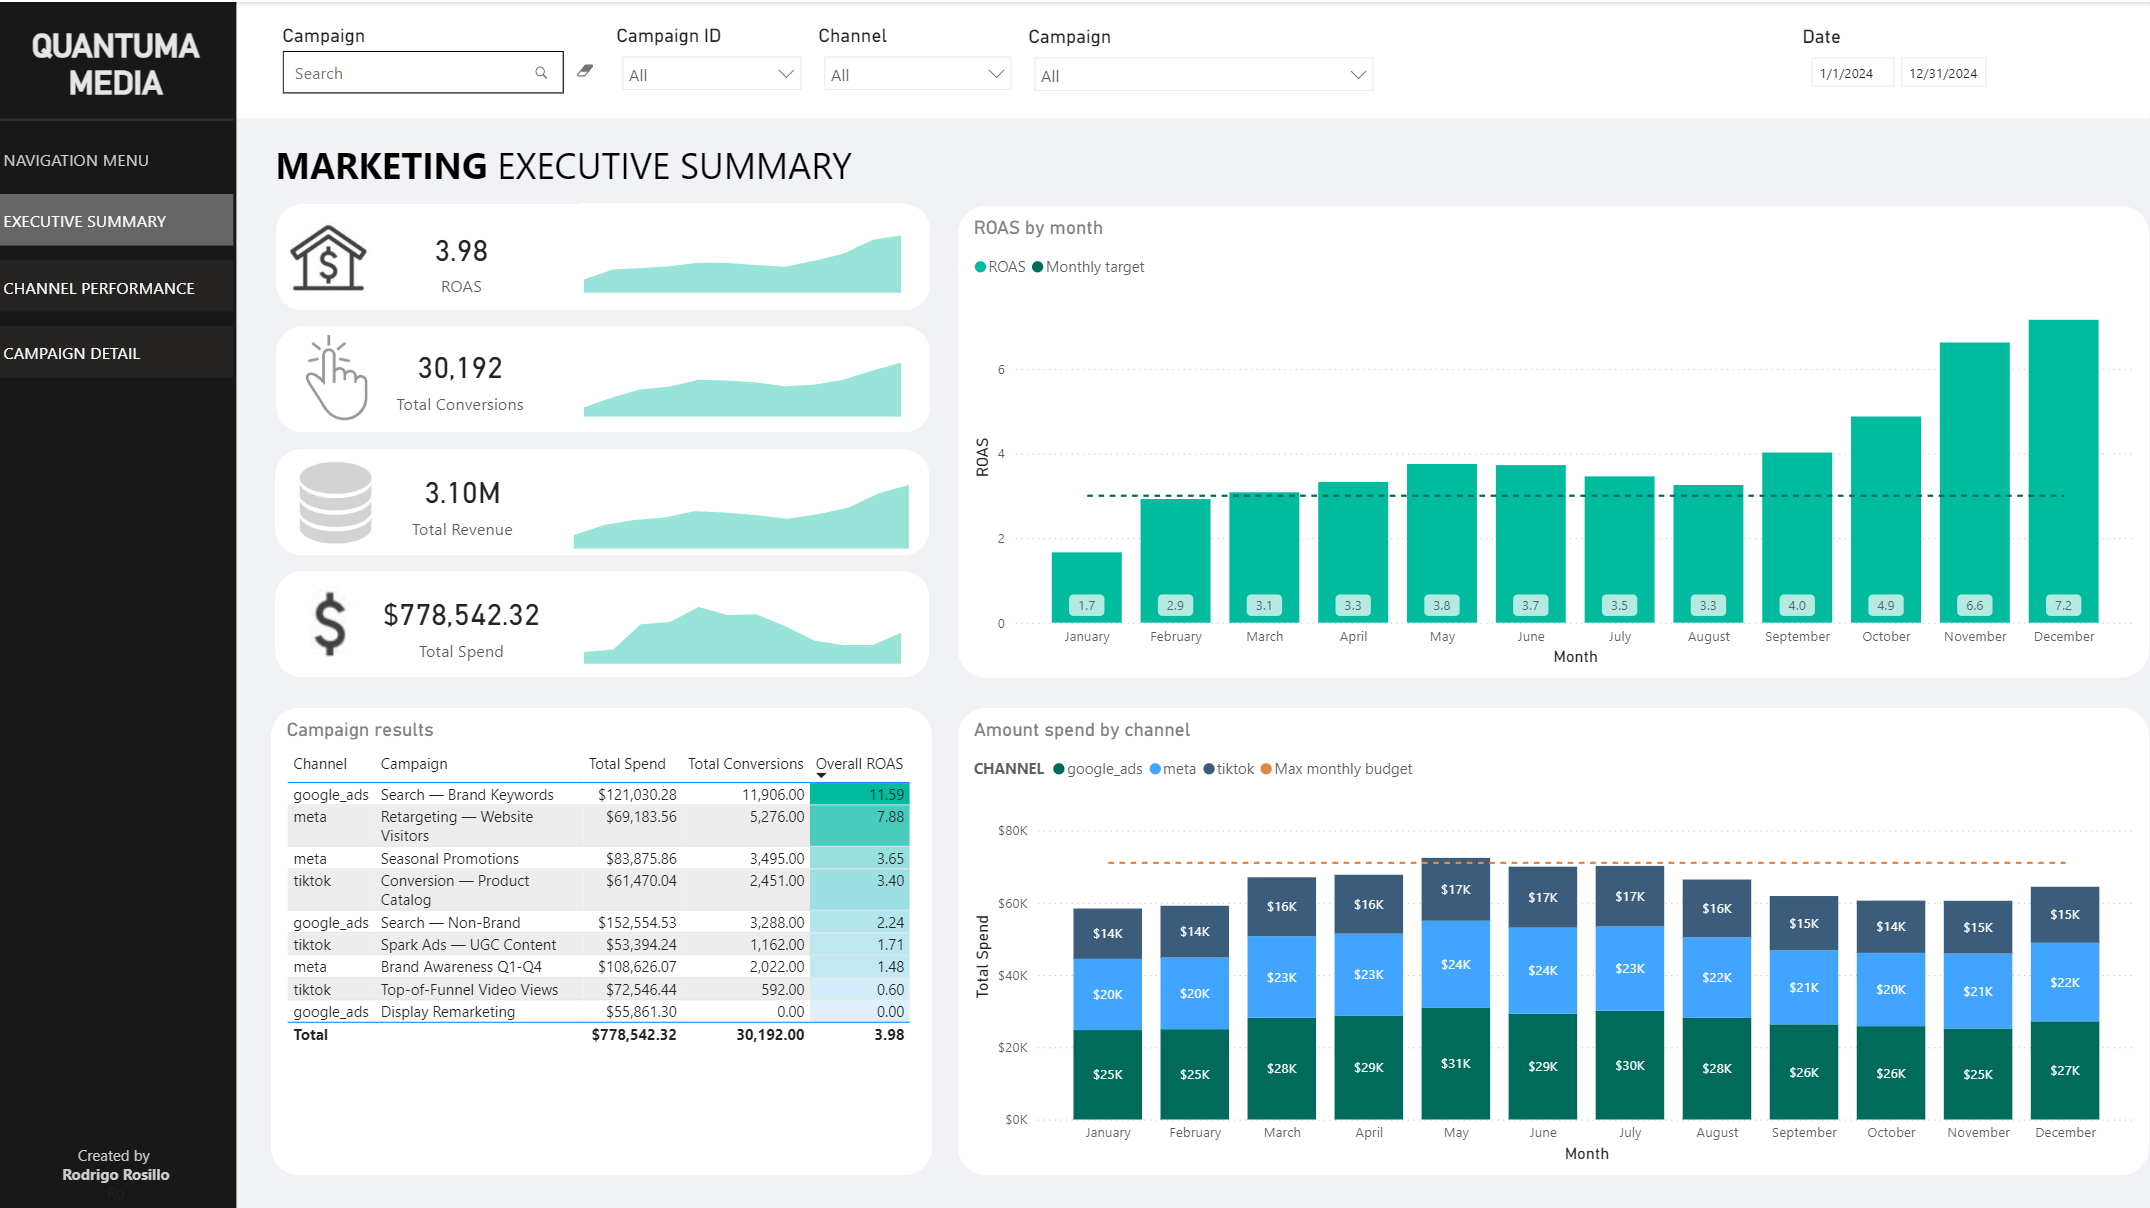

This screenshot's page, from the dashboard's own definition file:
{"tool":"powerbi","page":{"name":"Executive Summary","canvas":[1920,1080],"ordinal":0},"visuals":[{"type":"lineClusteredColumnComboChart","title":"ROAS by month","fields":{"Category":["FCT_AD_SPEND.DATE.Variation.Date Hierarchy.Month"],"Y":["FCT_AD_SPEND.Overall ROAS"],"Y2":["FCT_AD_SPEND.roas target"]},"box":[857.2,182.5,1062.8,421.2],"z":0},{"type":"tableEx","title":"Campaign results","fields":{"Values":["FCT_AD_SPEND.CHANNEL","FCT_AD_SPEND.CAMPAIGN_NAME","FCT_AD_SPEND.Total Spend","FCT_AD_SPEND.Total Conversions","FCT_AD_SPEND.Overall ROAS"]},"box":[243.3,630.5,589.9,416.6],"z":1000},{"type":"shape","box":[0,0,1920.6,103.9],"z":2000},{"type":"shape","box":[1.4,0,210.6,1080],"z":3000},{"type":"shape","box":[0,83.8,210.4,42.3],"z":4000},{"type":"textbox","box":[0,1015.5,210.5,64.5],"z":5000},{"type":"textbox","box":[0,124.6,210.5,34.2],"z":6000},{"type":"shape","box":[0,171.3,210.5,46],"z":7000},{"type":"textbox","title":"(2) Pages 1 - TXT 1","box":[0,179.7,210.6,37.1],"z":8000},{"type":"shape","box":[0,230.4,210.5,46],"z":9000},{"type":"textbox","title":"(2) Pages 1 - TXT 1","box":[0,238.8,210.6,37.1],"z":10000},{"type":"textbox","box":[242.4,118,600.1,64.5],"z":11000},{"type":"slicer","title":"Date","fields":{"Values":["FCT_AD_SPEND.DATE"]},"box":[1605.8,20.7,314.2,150.2],"z":12000},{"type":"textFilter25A4896A83E0487089E2B90C9AE57C8A","title":"Campaign","fields":{"field":["FCT_AD_SPEND.CAMPAIGN_NAME"]},"box":[248.9,19.8,299,85.6],"z":13000},{"type":"slicer","title":"Campaign ID","fields":{"Values":["FCT_AD_SPEND.CAMPAIGN_ID"]},"box":[547.5,19.8,179.9,72.5],"z":14000},{"type":"shape","title":"(2) Pages 2 - Click","box":[0,229.5,211.1,46.1],"z":15000},{"type":"slicer","title":"Channel","fields":{"Values":["FCT_AD_SPEND.CHANNEL"]},"box":[727.3,20,187.3,72.7],"z":16000},{"type":"slicer","title":"Campaign","fields":{"Values":["FCT_AD_SPEND.CAMPAIGN_NAME"]},"box":[915.1,20.7,322.9,72.5],"z":17000},{"type":"shape","box":[248.4,180.6,584.2,95],"z":18000},{"type":"shape","box":[248.3,289.1,584.2,95],"z":19000},{"type":"card","fields":{"Values":["FCT_AD_SPEND.Total Conversions"]},"box":[328,288.4,169.9,93.5],"z":20000},{"type":"card","fields":{"Values":["FCT_AD_SPEND.Overall ROAS"]},"box":[329.3,181.8,168.6,96.1],"z":21000},{"type":"shape","box":[247.4,399.4,584.2,95],"z":22000},{"type":"card","fields":{"Values":["FCT_AD_SPEND.Total Revenue"]},"box":[329.8,399,168.6,95.7],"z":23000},{"type":"shape","box":[247.3,507.9,584.2,95],"z":24000},{"type":"card","fields":{"Values":["FCT_AD_SPEND.Total Spend"]},"box":[329.7,507.5,168.6,95.7],"z":25000},{"type":"areaChart","fields":{"Category":["FCT_AD_SPEND.DATE.Variation.Date Hierarchy.Year","FCT_AD_SPEND.DATE.Variation.Date Hierarchy.Quarter","FCT_AD_SPEND.DATE.Variation.Date Hierarchy.Month","FCT_AD_SPEND.DATE.Variation.Date Hierarchy.Day"],"Y":["FCT_AD_SPEND.Total Revenue"]},"box":[498.7,400,329.1,94],"z":26000},{"type":"areaChart","title":"Tasa de apertura única por día de envío","fields":{"Category":["FCT_AD_SPEND.DATE.Variation.Date Hierarchy.Year","FCT_AD_SPEND.DATE.Variation.Date Hierarchy.Quarter","FCT_AD_SPEND.DATE.Variation.Date Hierarchy.Month","FCT_AD_SPEND.DATE.Variation.Date Hierarchy.Day"],"Y":["FCT_AD_SPEND.Total Conversions"]},"box":[498.7,290.4,329.1,92.2],"z":27000},{"type":"areaChart","title":"Tasa de apertura única por día de envío","fields":{"Category":["FCT_AD_SPEND.DATE.Variation.Date Hierarchy.Year","FCT_AD_SPEND.DATE.Variation.Date Hierarchy.Quarter","FCT_AD_SPEND.DATE.Variation.Date Hierarchy.Month","FCT_AD_SPEND.DATE.Variation.Date Hierarchy.Day"],"Y":["FCT_AD_SPEND.Total Spend"]},"box":[498.7,509.7,329.1,93.1],"z":28000},{"type":"areaChart","title":"Tasa de apertura única por día de envío","fields":{"Category":["FCT_AD_SPEND.DATE.Variation.Date Hierarchy.Year","FCT_AD_SPEND.DATE.Variation.Date Hierarchy.Quarter","FCT_AD_SPEND.DATE.Variation.Date Hierarchy.Month","FCT_AD_SPEND.DATE.Variation.Date Hierarchy.Day"],"Y":["FCT_AD_SPEND.Overall ROAS"]},"box":[498.7,179.7,329.1,93.1],"z":29000},{"type":"image","box":[259.9,403.7,83,86.6],"z":30000},{"type":"image","box":[258.1,288.5,85.7,94],"z":31000},{"type":"shape","box":[0,289.1,210.5,46],"z":32000},{"type":"textbox","title":"(2) Pages 1 - TXT 1","box":[0,297.5,210.6,37.1],"z":33000},{"type":"shape","title":"(2) Pages 2 - Click","box":[0,290.4,211.1,47],"z":34000},{"type":"lineStackedColumnComboChart","title":"Amount spend by channel","fields":{"Category":["FCT_AD_SPEND.DATE.Variation.Date Hierarchy.Month","FCT_AD_SPEND.DATE.Variation.Date Hierarchy.Day"],"Y":["FCT_AD_SPEND.Total Spend"],"Series":["FCT_AD_SPEND.CHANNEL"],"Y2":["FCT_AD_SPEND.MAX Budget"]},"box":[857.2,630.5,1062.8,416.6],"z":35000},{"type":"textbox","box":[0,0,210.2,105.1],"z":36000},{"type":"image","box":[248.9,179.7,94.9,97.7],"z":37000},{"type":"image","box":[248.9,507.9,94,94.9],"z":38000},{"type":"shape","box":[0,345.4,210.6,46.4],"z":38001},{"type":"textbox","title":"(2) Pages 1 - TXT 1","box":[0,349.9,210.6,37.5],"z":38002},{"type":"shape","title":"(2) Pages 2 - Click","box":[0,344.5,209.8,47.3],"z":38003}]}

Visuals, with their boxes on the page's 1920x1080 design canvas (x1, y1, x2, y2). These are canvas units, not pixel positions in the 2150x1208 screenshot, which may show the page scaled, cropped or inside an application window:
"ROAS by month" lineClusteredColumnComboChart: bbox(857, 182, 1920, 604)
"Campaign results" tableEx: bbox(243, 630, 833, 1047)
shape: bbox(0, 0, 1921, 104)
shape: bbox(1, 0, 212, 1080)
shape: bbox(0, 84, 210, 126)
textbox: bbox(0, 1016, 210, 1080)
textbox: bbox(0, 125, 210, 159)
shape: bbox(0, 171, 210, 217)
"(2) Pages 1 - TXT 1" textbox: bbox(0, 180, 211, 217)
shape: bbox(0, 230, 210, 276)
"(2) Pages 1 - TXT 1" textbox: bbox(0, 239, 211, 276)
textbox: bbox(242, 118, 842, 182)
"Date" slicer: bbox(1606, 21, 1920, 171)
"Campaign" textFilter25A4896A83E0487089E2B90C9AE57C8A: bbox(249, 20, 548, 105)
"Campaign ID" slicer: bbox(548, 20, 727, 92)
"(2) Pages 2 - Click" shape: bbox(0, 230, 211, 276)
"Channel" slicer: bbox(727, 20, 915, 93)
"Campaign" slicer: bbox(915, 21, 1238, 93)
shape: bbox(248, 181, 833, 276)
shape: bbox(248, 289, 832, 384)
card - FCT_AD_SPEND.Total Conversions: bbox(328, 288, 498, 382)
card - FCT_AD_SPEND.Overall ROAS: bbox(329, 182, 498, 278)
shape: bbox(247, 399, 832, 494)
card - FCT_AD_SPEND.Total Revenue: bbox(330, 399, 498, 495)
shape: bbox(247, 508, 832, 603)
card - FCT_AD_SPEND.Total Spend: bbox(330, 508, 498, 603)
areaChart - FCT_AD_SPEND.DATE.Variation.Date Hierarchy.Year x FCT_AD_SPEND.DATE.Variation.Date Hierarchy.Quarter: bbox(499, 400, 828, 494)
"Tasa de apertura única por día de envío" areaChart: bbox(499, 290, 828, 383)
"Tasa de apertura única por día de envío" areaChart: bbox(499, 510, 828, 603)
"Tasa de apertura única por día de envío" areaChart: bbox(499, 180, 828, 273)
image: bbox(260, 404, 343, 490)
image: bbox(258, 288, 344, 382)
shape: bbox(0, 289, 210, 335)
"(2) Pages 1 - TXT 1" textbox: bbox(0, 298, 211, 335)
"(2) Pages 2 - Click" shape: bbox(0, 290, 211, 337)
"Amount spend by channel" lineStackedColumnComboChart: bbox(857, 630, 1920, 1047)
textbox: bbox(0, 0, 210, 105)
image: bbox(249, 180, 344, 277)
image: bbox(249, 508, 343, 603)
shape: bbox(0, 345, 211, 392)
"(2) Pages 1 - TXT 1" textbox: bbox(0, 350, 211, 387)
"(2) Pages 2 - Click" shape: bbox(0, 344, 210, 392)
